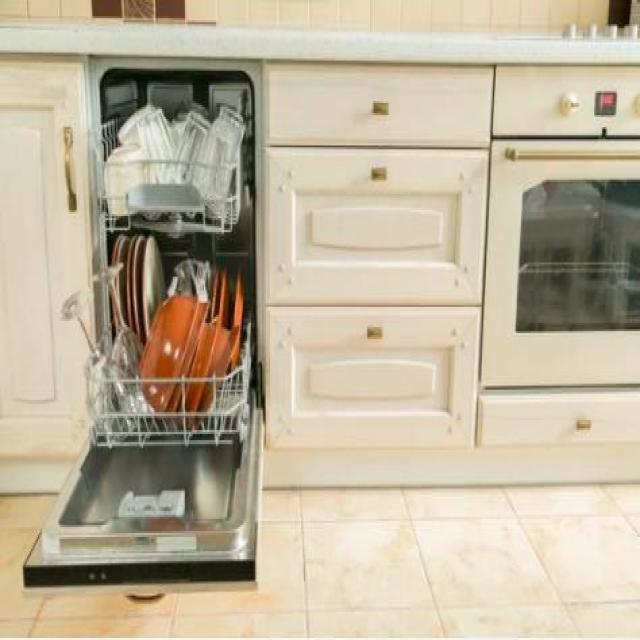dishwasher: (17, 57, 276, 606)
